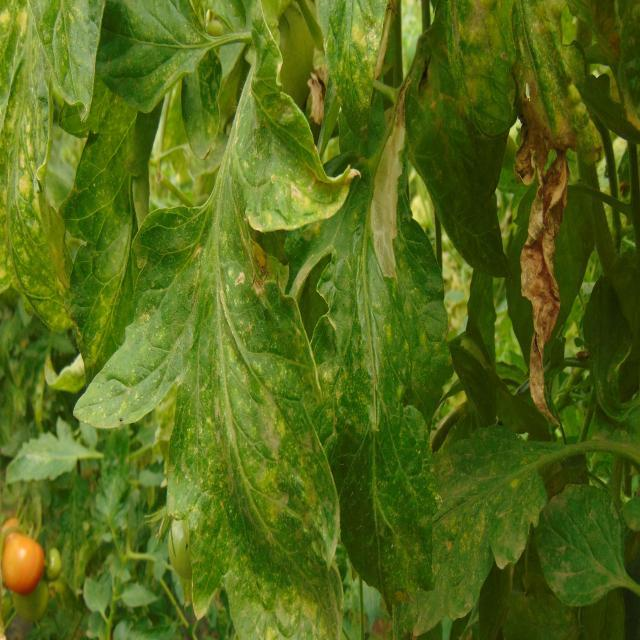Tuta absoluta: (367, 107, 409, 280)
